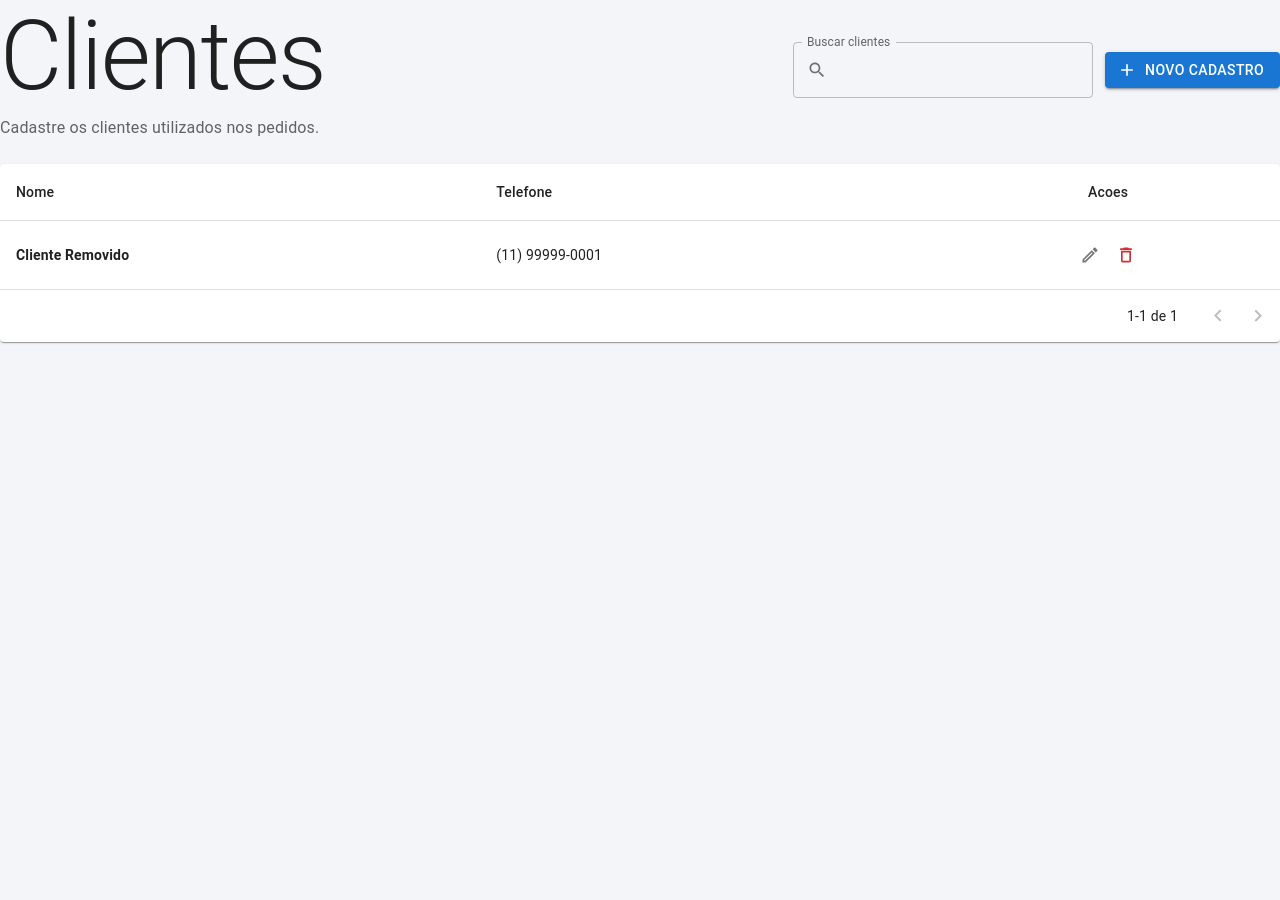
Test: ClientsPage › exclui um cliente somente depois da confirmacao
Expected: the text "Cliente Removido" is shown, left=0, top=220, right=480, bottom=290
What coordinates should you click on to do the following:
click the button named "Excluir Cliente Removido"
I would click on:
 (1126, 255)
Its box is left=1108, top=237, right=1144, bottom=273.
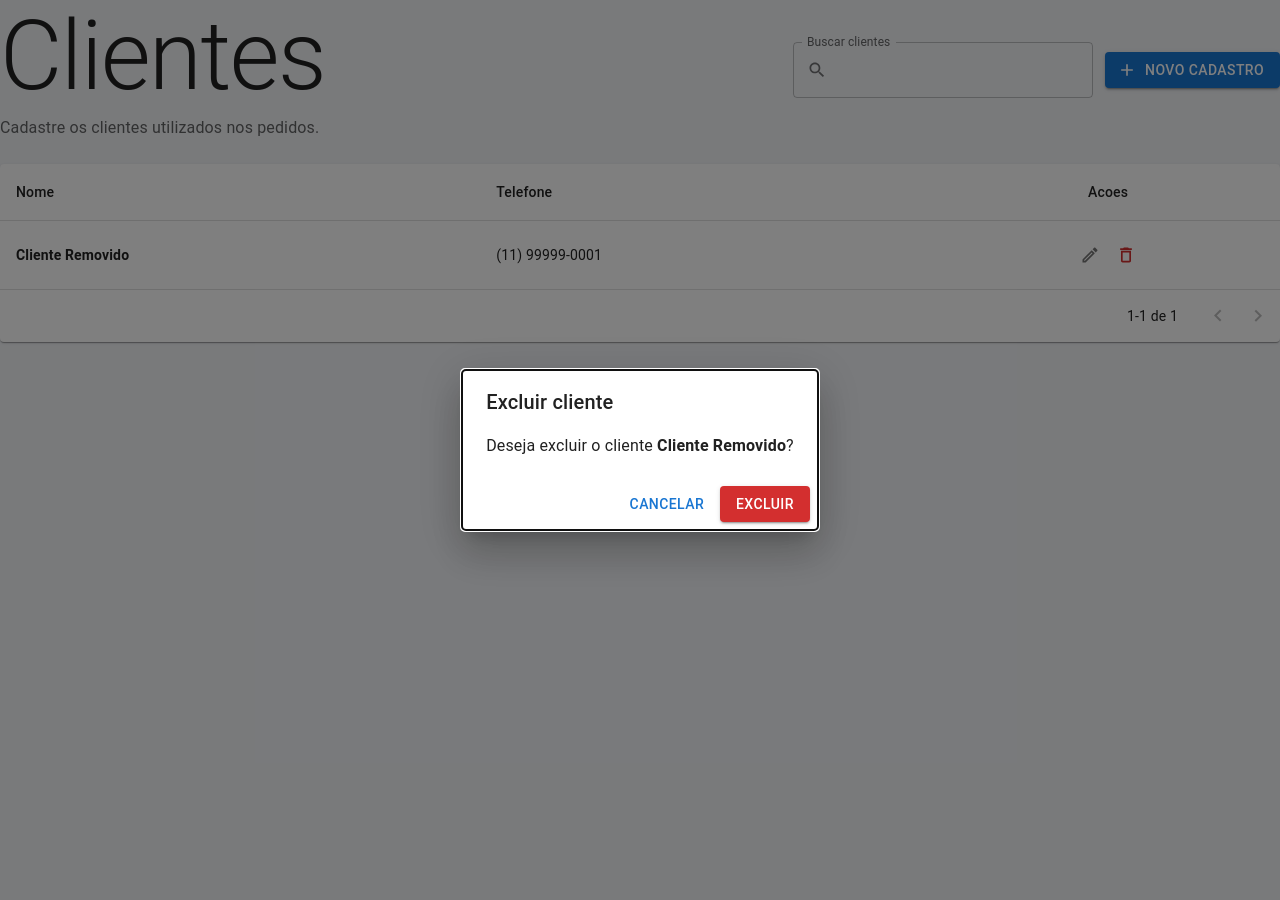
Result: the dialog "Excluir cliente" shows "Cliente Removido" at left=657, top=436, right=786, bottom=455
What coordinates should you click on to do the following:
click the button "Excluir"
I would click on:
 (765, 504)
Its box is left=720, top=486, right=810, bottom=522.
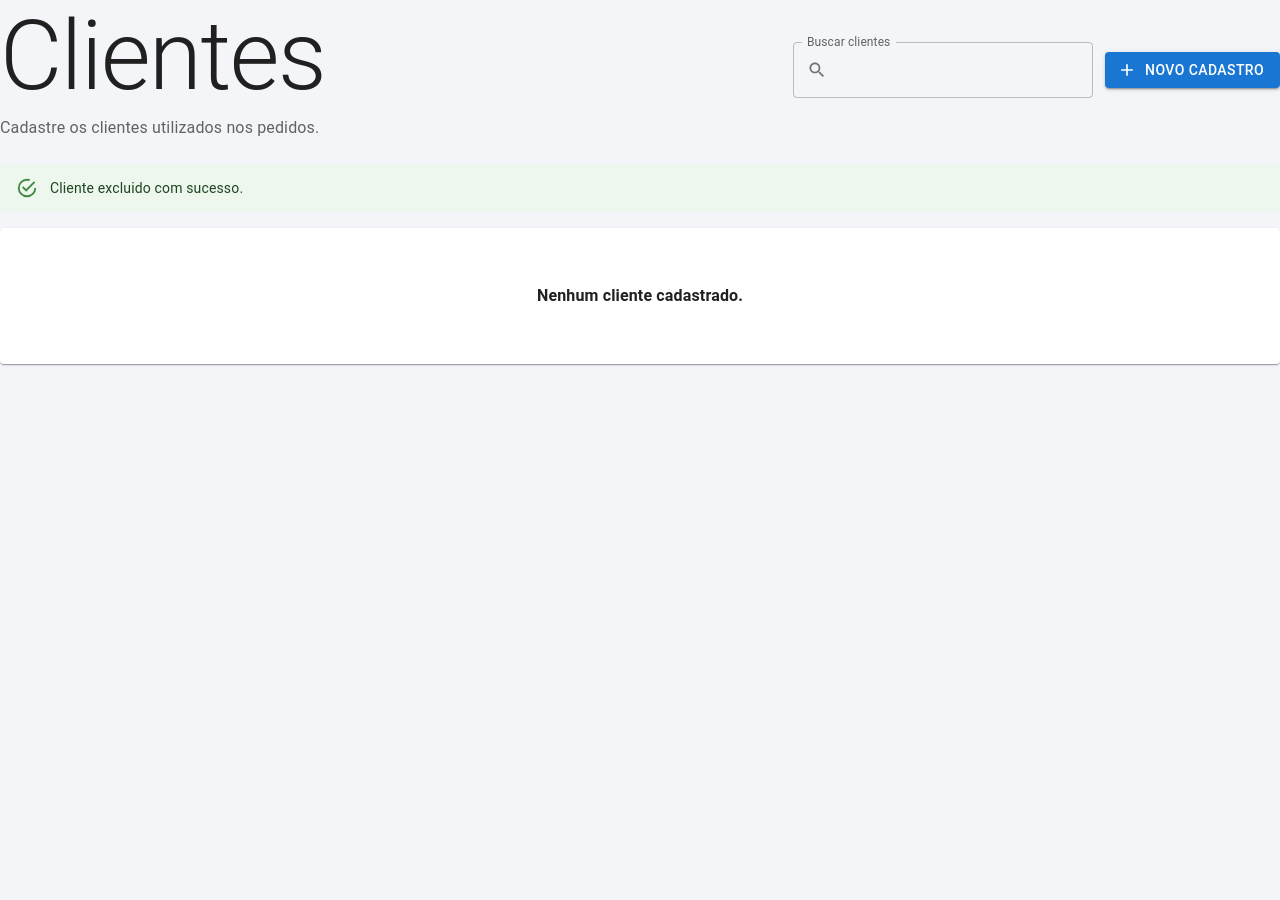
Result: the text "Nenhum cliente cadastrado." is shown at left=537, top=286, right=743, bottom=305
